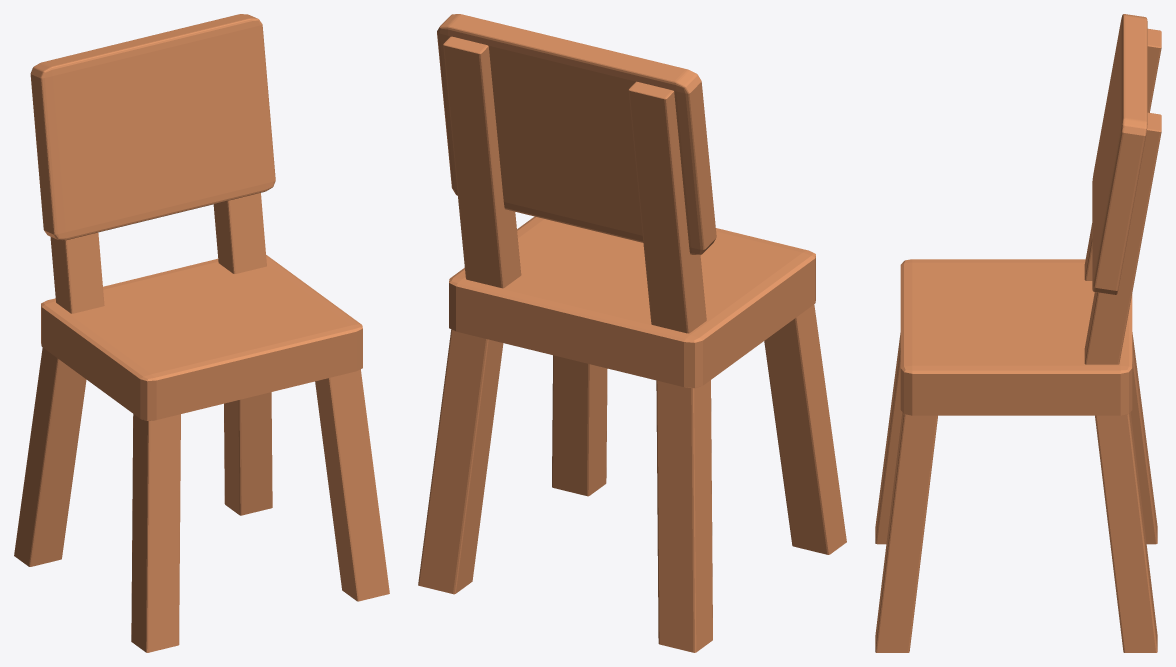
Rendered from Chair.obj.
3 renders of one model, left to right at view 1: azimuth 30°, elevation 25°; view 2: azimuth 150°, elevation 25°; view 3: azimuth 270°, elevation 25°, orthographic. The views are drawn at different scales.
Visible parts, largest first — view 1: Chair_Cube.033; view 2: Chair_Cube.033; view 3: Chair_Cube.033.
Part boxes in pixels (box(x1,y1,x2,y2)): Chair_Cube.033: box(14, 14, 389, 652); Chair_Cube.033: box(418, 14, 846, 652); Chair_Cube.033: box(875, 14, 1161, 652).
Size of the model in its own units: 1.02 by 1.97 by 0.9778.
